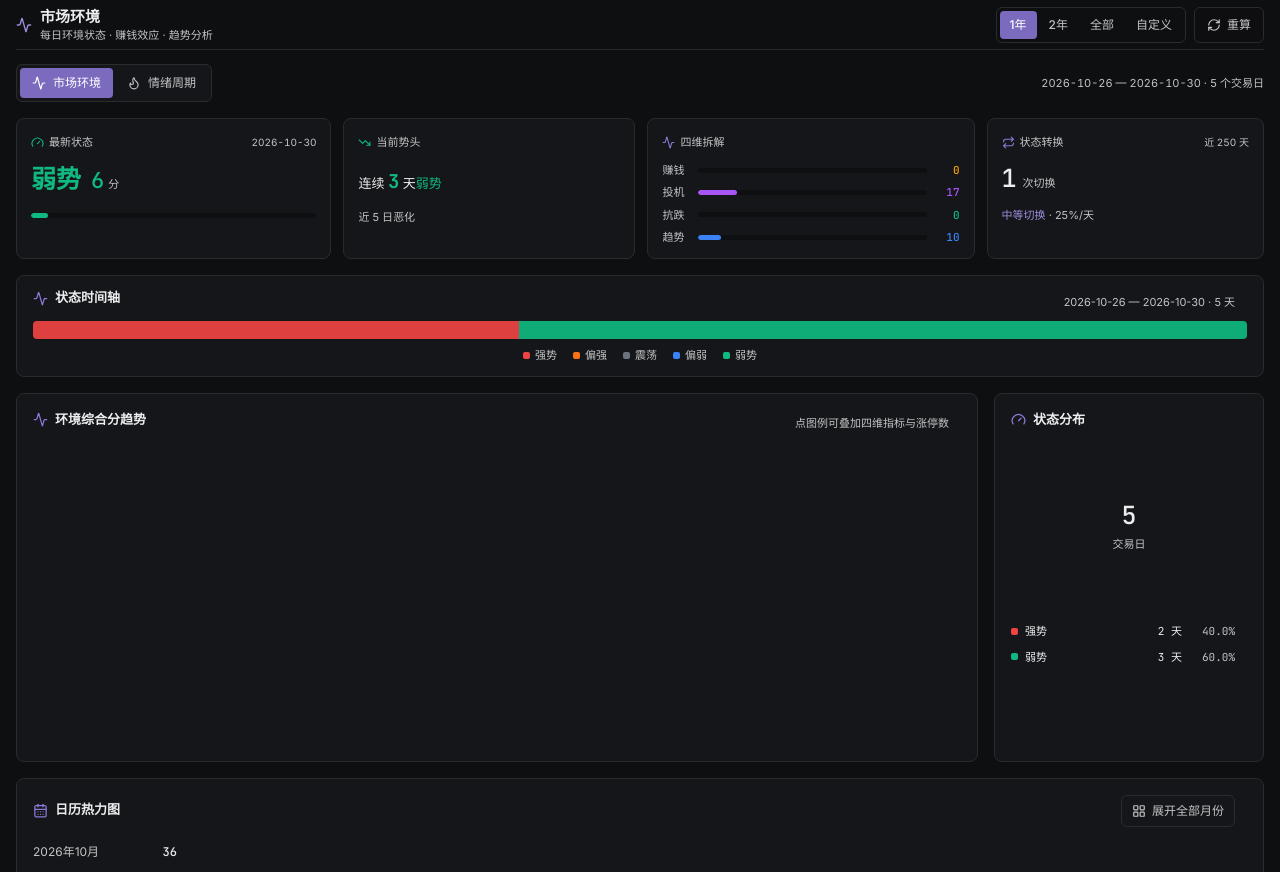
Test case: 旧数据缺少最新阶段时给出缺失说明, 不默认显示修复阶段
Click the tab "情绪周期" at (162, 83), box [115, 68, 208, 98]
(page scrolled)
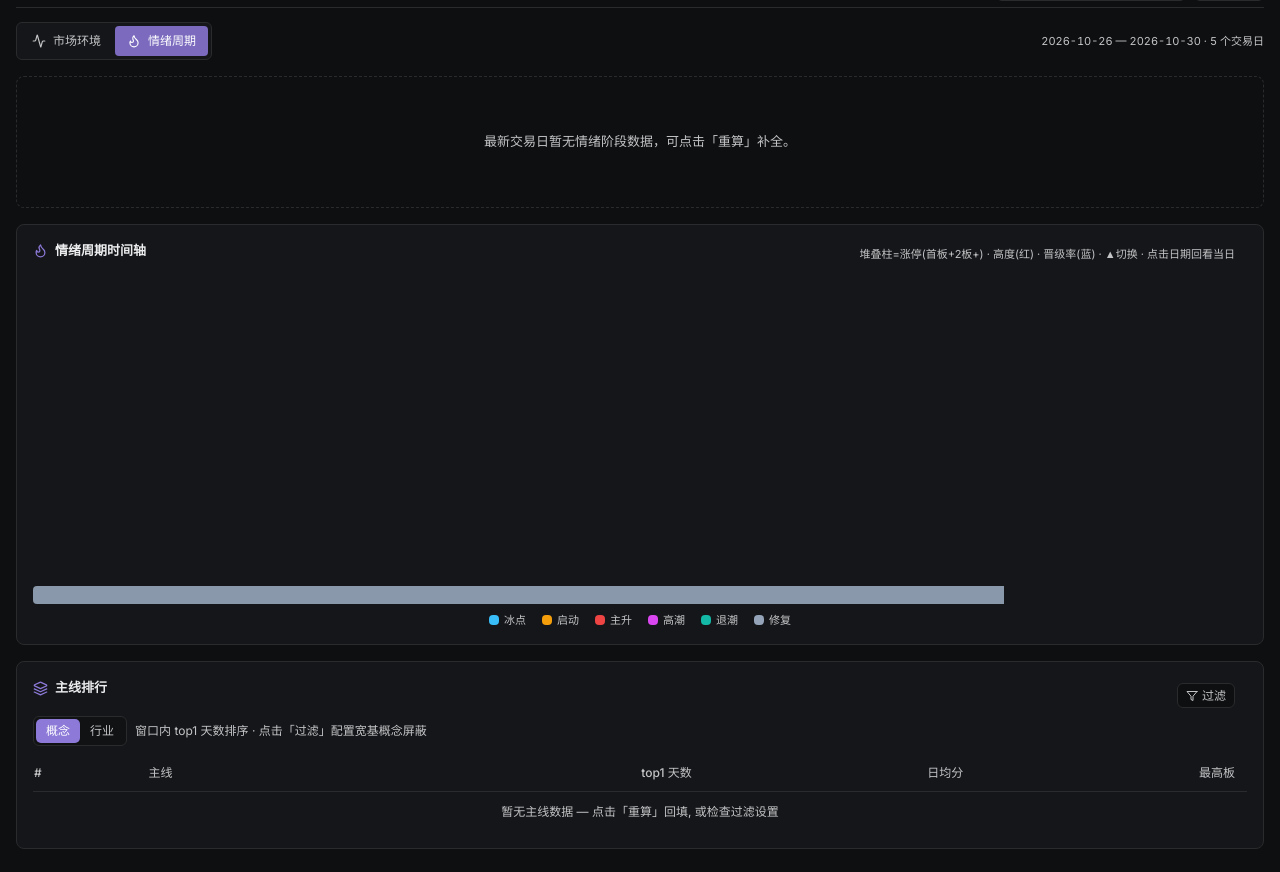
Expected: the panel shows "最新交易日暂无情绪阶段数据", [484, 133, 796, 149]
